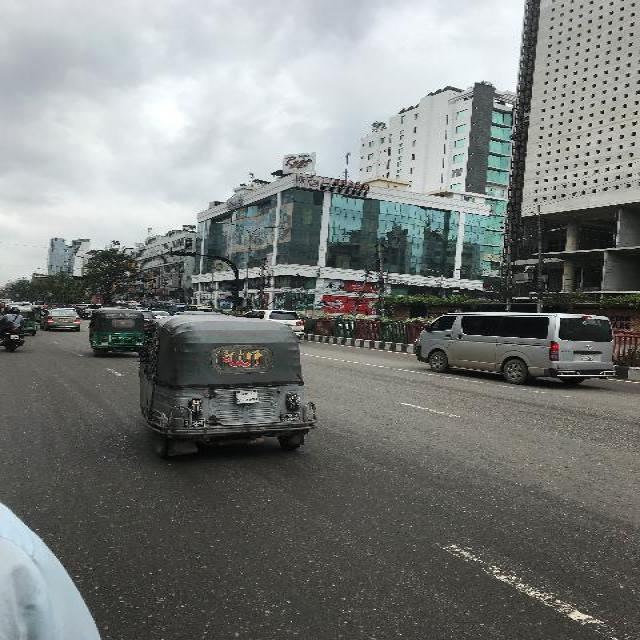10: (1, 326, 28, 354), (79, 312, 89, 320), (42, 307, 46, 311)
15: (264, 308, 304, 326)
17: (136, 312, 320, 460), (88, 308, 148, 358), (22, 306, 38, 336)
19: (408, 310, 619, 386)
5: (45, 308, 78, 330)
Truck: (154, 300, 187, 314), (187, 304, 213, 310)
